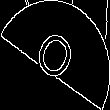O_SW: (29, 22, 81, 88)
